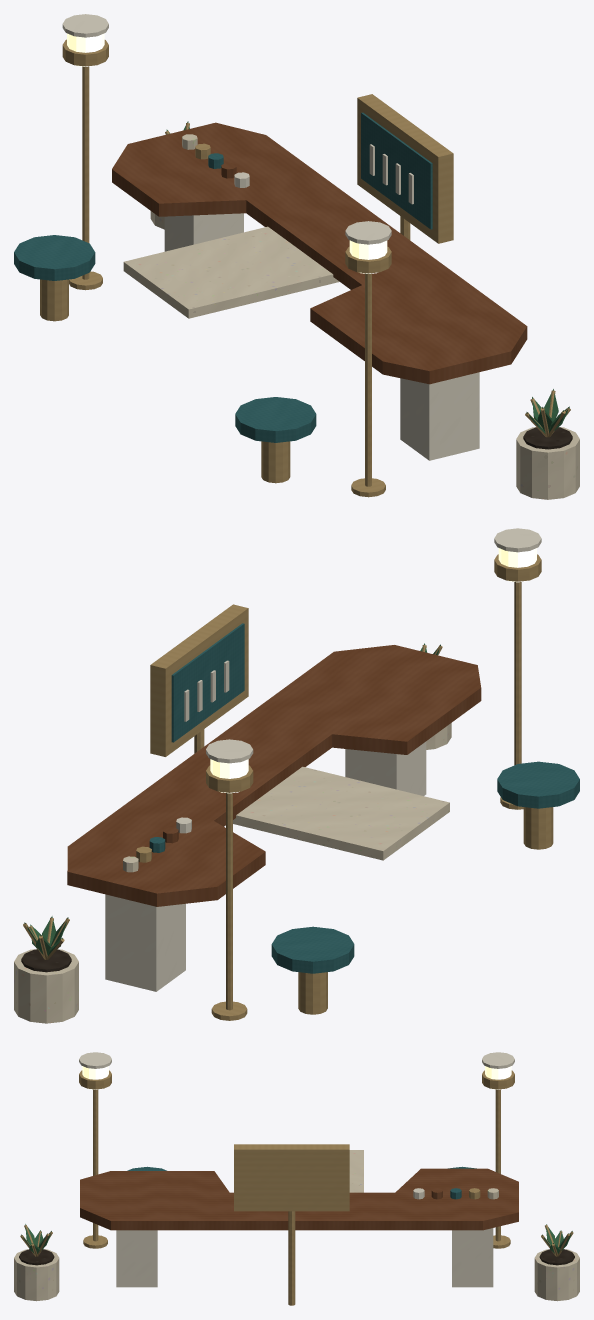
Rendered from G7_Gallery_D09_r001.glb.
3 views of the same model, one above another, from view 1: azimuth 30°, elevation 25°; view 2: azimuth 150°, elevation 25°; view 3: azimuth 270°, elevation 25° (orthographic). The views are drawn at different scales.
Parts seen in each view (by area): view 1: G7_D09_wood_solid, G7_D09_stone_solid, G7_D09_metal_solid, G7_D09_teal_solid, G7_D09_ivory_solid, G7_D09_lens_visual_lens, G7_D09_soil_solid, G7_D09_ivory_visual_mark, G7_D09_leaf_visual_plant; view 2: G7_D09_wood_solid, G7_D09_stone_solid, G7_D09_metal_solid, G7_D09_ivory_solid, G7_D09_teal_solid, G7_D09_lens_visual_lens, G7_D09_soil_solid, G7_D09_ivory_visual_mark, G7_D09_leaf_visual_plant; view 3: G7_D09_wood_solid, G7_D09_metal_solid, G7_D09_ivory_solid, G7_D09_stone_solid, G7_D09_soil_solid, G7_D09_leaf_visual_plant, G7_D09_lens_visual_lens.
Boxes of the visible parts, x1,y1,x2,y2 form: G7_D09_wood_solid: (112,122,527,384); G7_D09_stone_solid: (123,211,579,499); G7_D09_metal_solid: (40,39,570,497); G7_D09_teal_solid: (14,112,432,442); G7_D09_ivory_solid: (62,14,479,460); G7_D09_lens_visual_lens: (67,33,387,273); G7_D09_soil_solid: (523,427,572,449); G7_D09_ivory_visual_mark: (369,144,413,204); G7_D09_leaf_visual_plant: (166,121,569,433); G7_D09_wood_solid: (67,645,481,906); G7_D09_stone_solid: (14,723,451,1023); G7_D09_metal_solid: (23,554,553,1020); G7_D09_ivory_solid: (105,528,541,991); G7_D09_teal_solid: (171,623,579,973); G7_D09_lens_visual_lens: (210,548,536,793); G7_D09_soil_solid: (21,949,71,972); G7_D09_ivory_visual_mark: (184,660,229,721); G7_D09_leaf_visual_plant: (24,643,440,956); G7_D09_wood_solid: (80,1168,518,1230); G7_D09_metal_solid: (20,1070,573,1305); G7_D09_ivory_solid: (79,1052,514,1287); G7_D09_stone_solid: (14,1150,579,1301); G7_D09_soil_solid: (19,1249,574,1265); G7_D09_leaf_visual_plant: (21,1224,572,1253); G7_D09_lens_visual_lens: (82,1066,511,1089).
Size of the model in its own units: 2.18 by 1.97 by 5.48.
8 materials, 8 textured.
